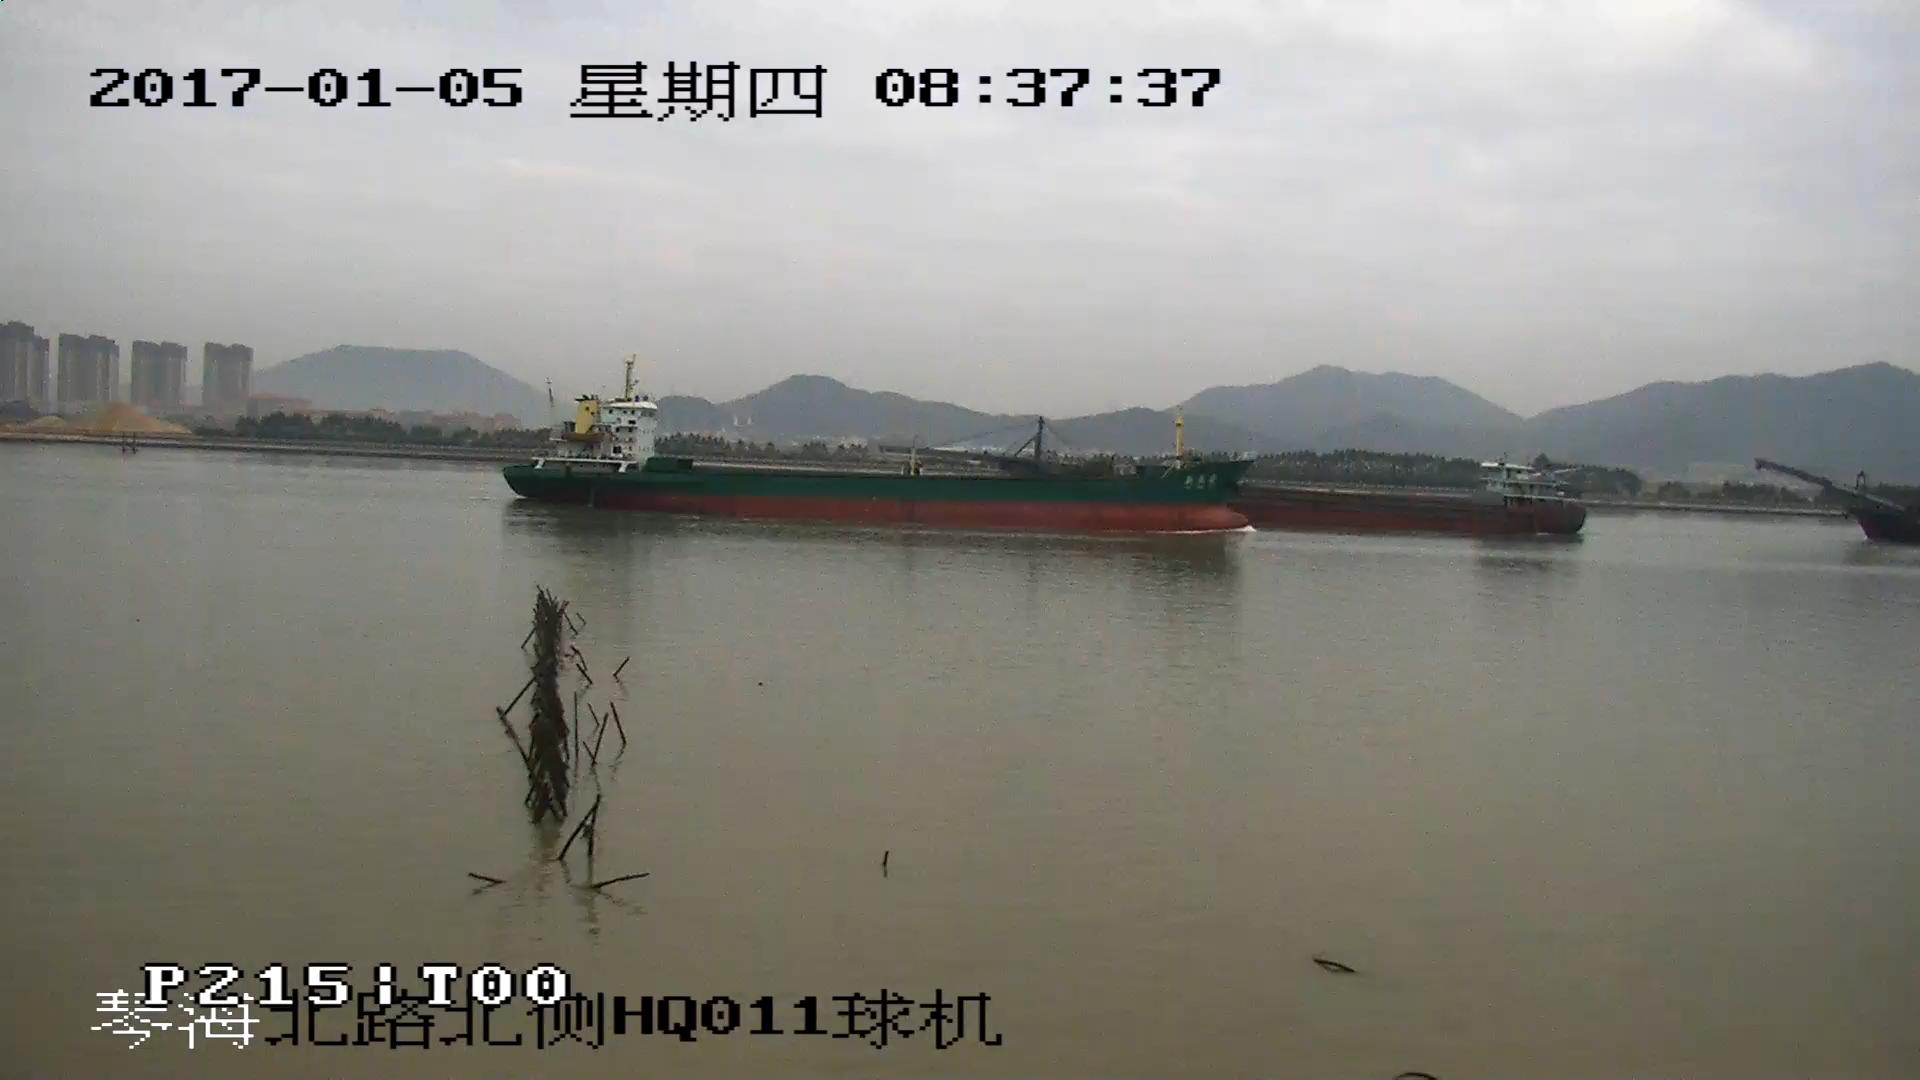bulk cargo carrier: (1251, 465, 1580, 537), (1755, 459, 1920, 544)
general cargo ship: (506, 363, 1249, 531)
